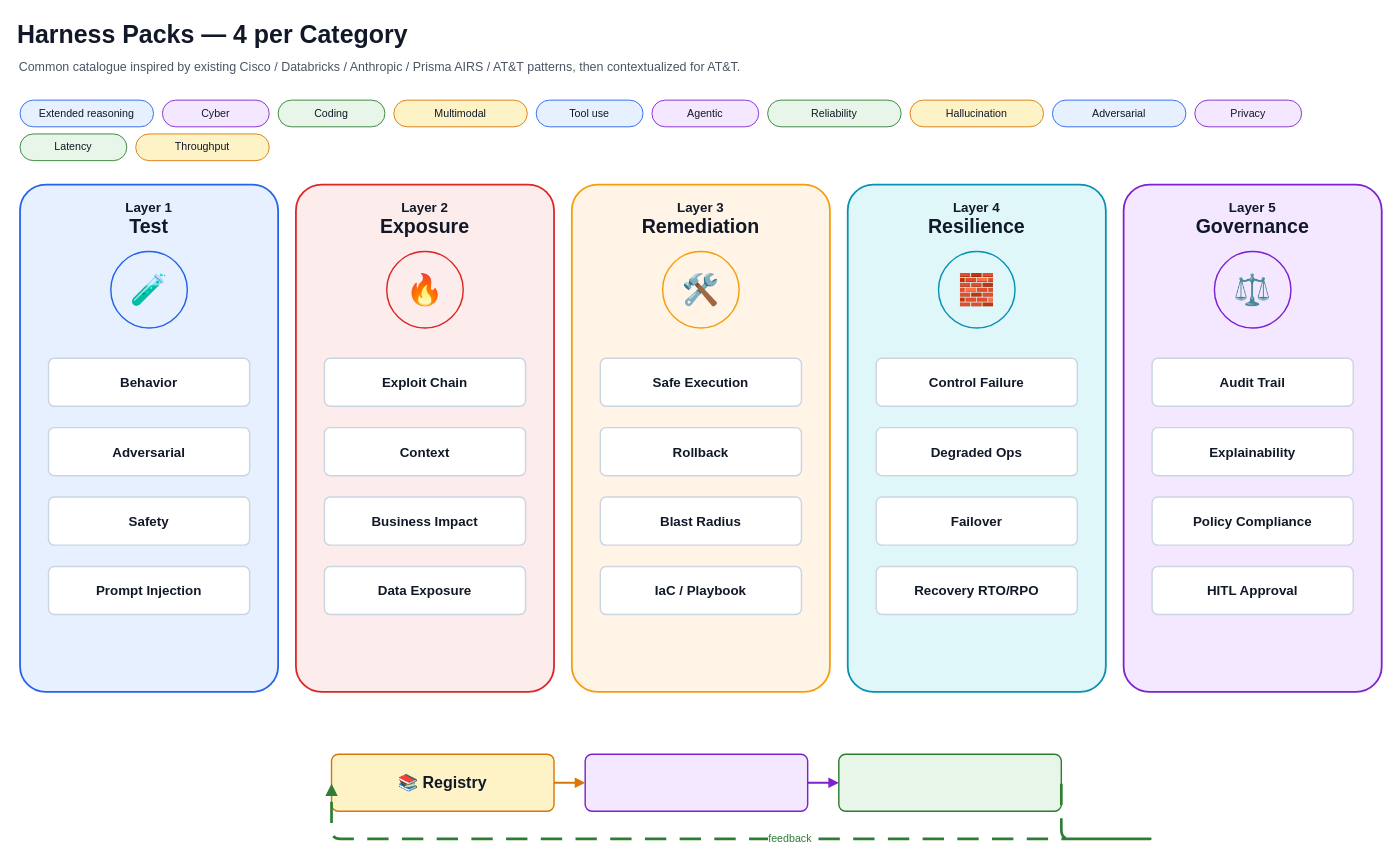
Image size: 1397x862. Some labels were removed from this diagram. The centre of each missing label's shape, as x and y in pixels:
"🎯 Selector" belongs at (x=696, y=782).
"🚀 CI/CD + Runtime" belongs at (x=950, y=782).
